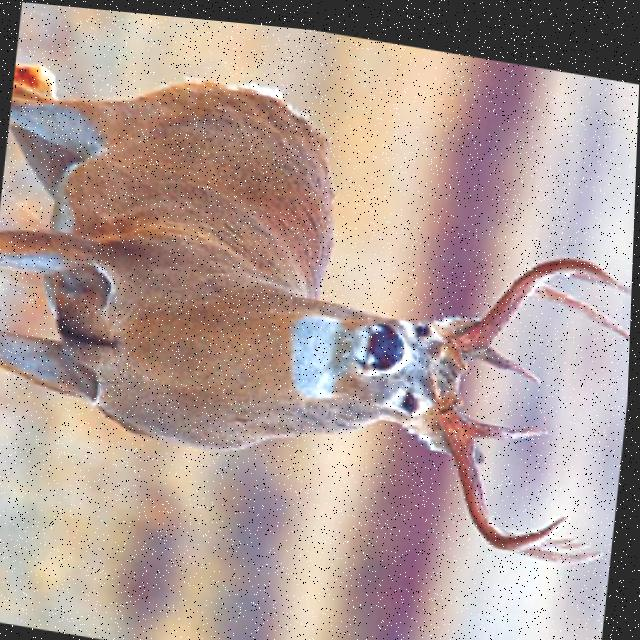L-F: (427, 382, 574, 540)
L-G1: (470, 407, 555, 429)
R-F: (448, 244, 614, 360)
R-G1: (477, 335, 545, 374)
R-G2: (534, 271, 632, 330)
